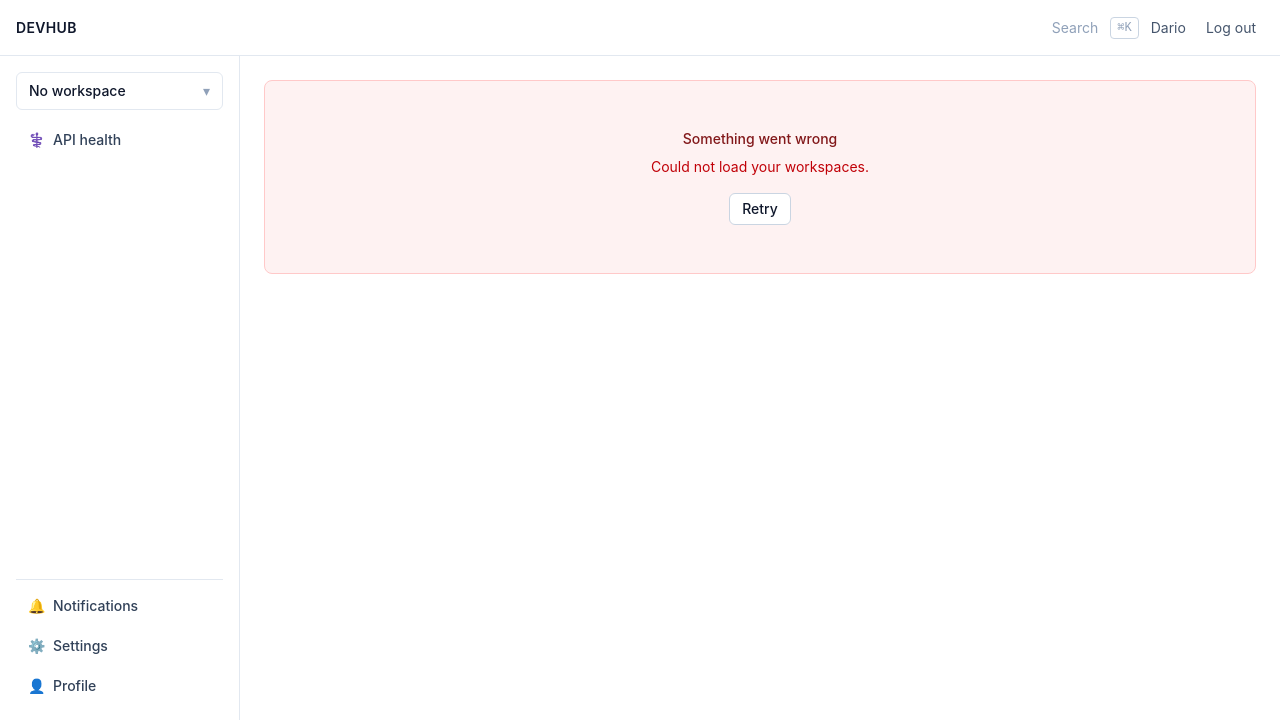
Test case: landing on / › shows an error with a working Retry when the list fails
Expected: the message shows "Could not load your workspaces.", [651, 158, 869, 175]
Click the button "Retry" at coordinates (760, 209), box [729, 193, 791, 225]
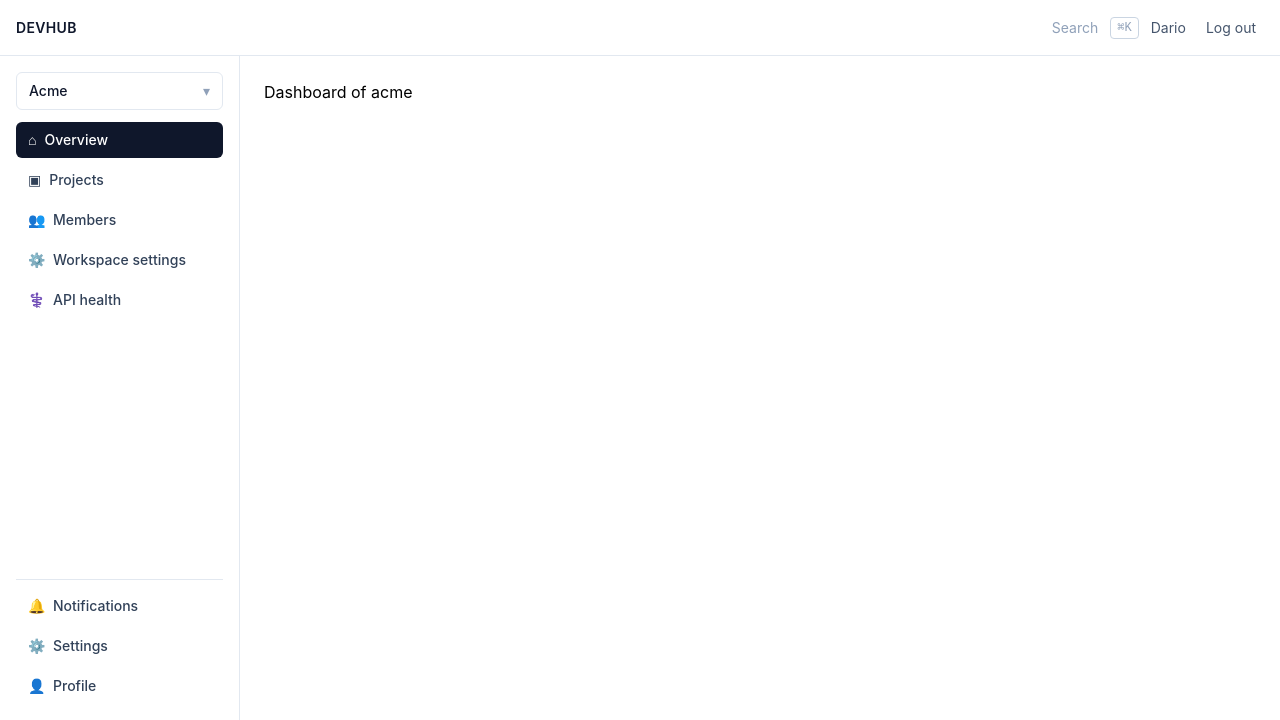
Result: the heading "Dashboard of acme" is shown at [264, 82, 412, 102]
